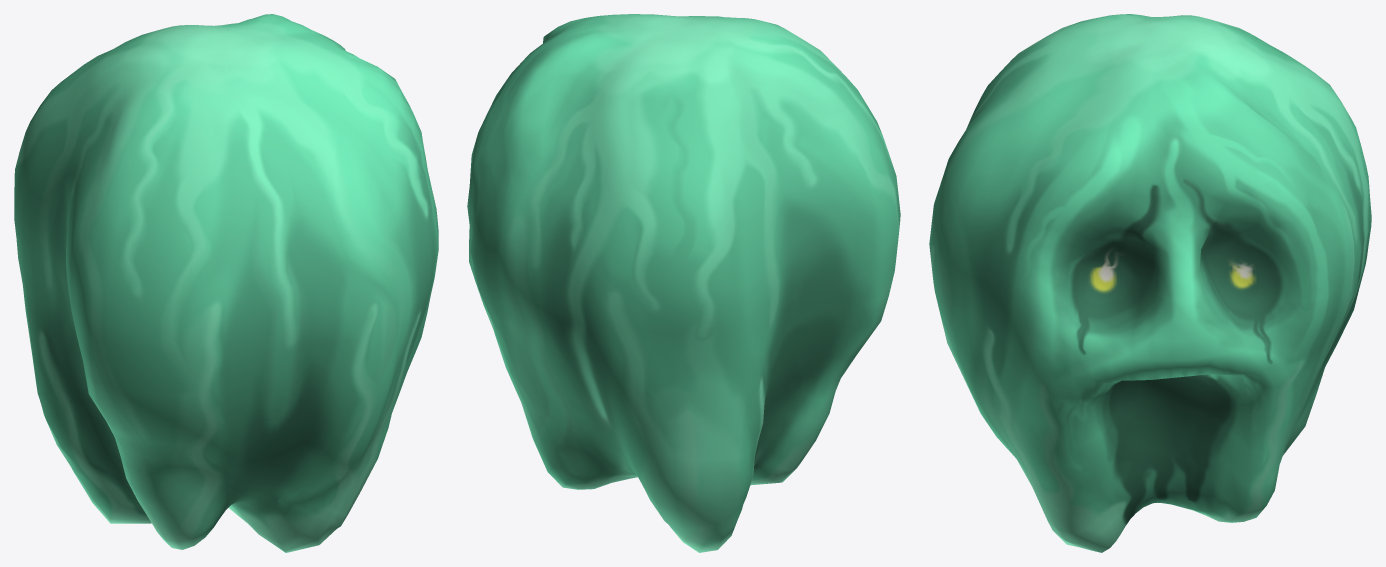
File: Spirit.glb
3 views of the same model, side by side, from view 1: azimuth 30°, elevation 25°; view 2: azimuth 150°, elevation 25°; view 3: azimuth 270°, elevation 25° (orthographic). The views are drawn at different scales.
Visible parts, largest first — view 1: Sphere; view 2: Sphere; view 3: Sphere.
Boxes of the visible parts, x1,y1,x2,y2 form: Sphere: [14, 14, 438, 552]; Sphere: [467, 14, 900, 552]; Sphere: [929, 14, 1371, 552].
Size of the model in its own units: 1.94 by 2.55 by 2.06.
1 material, 1 textured.
